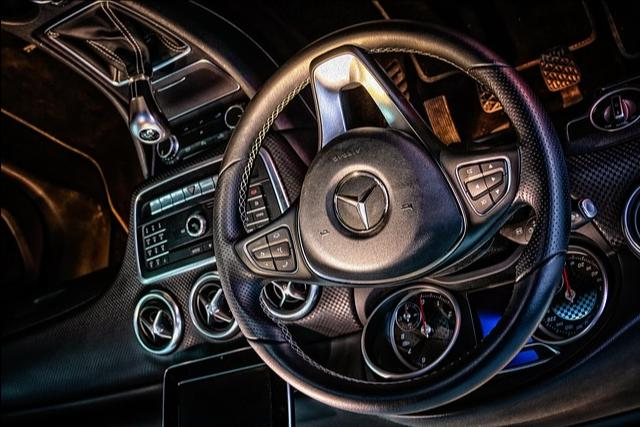Non_Gorille: (55, 12, 600, 418)
